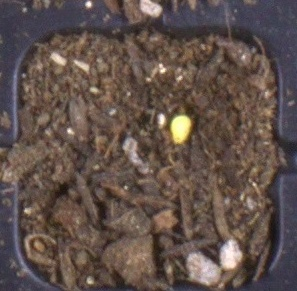chilli seed: (169, 114, 192, 145)
